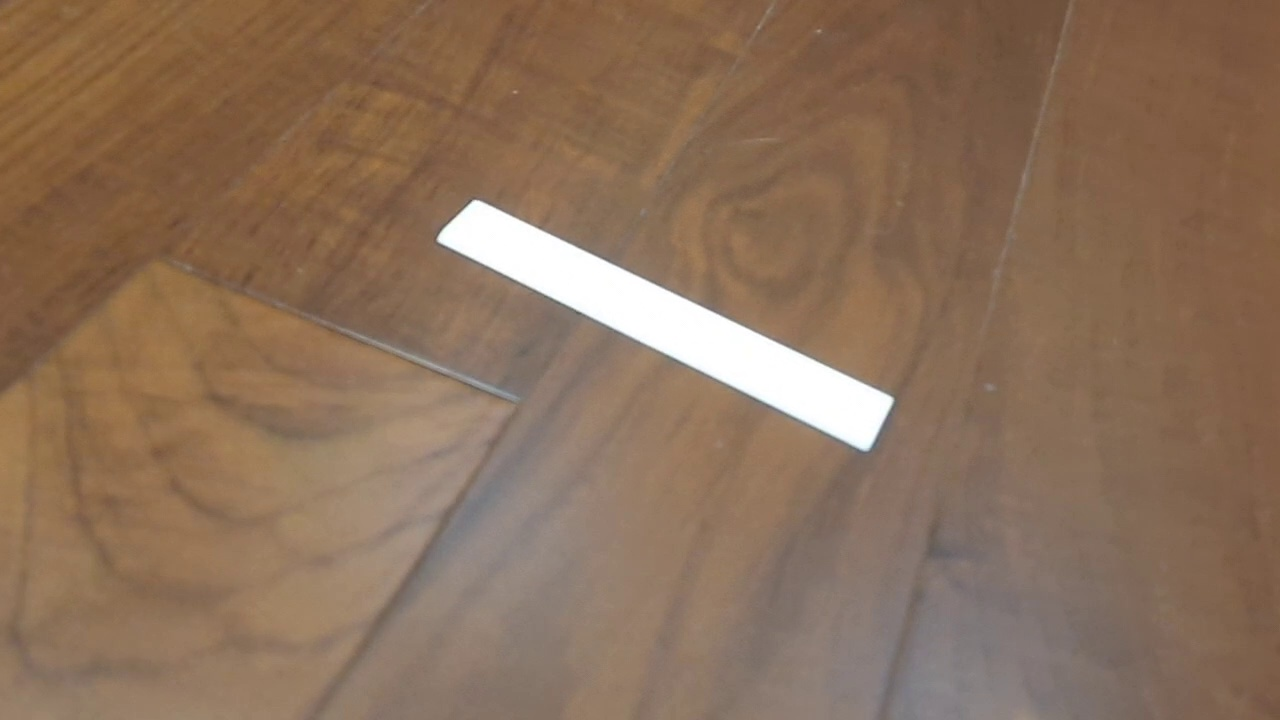ruler: (435, 197, 896, 454)
